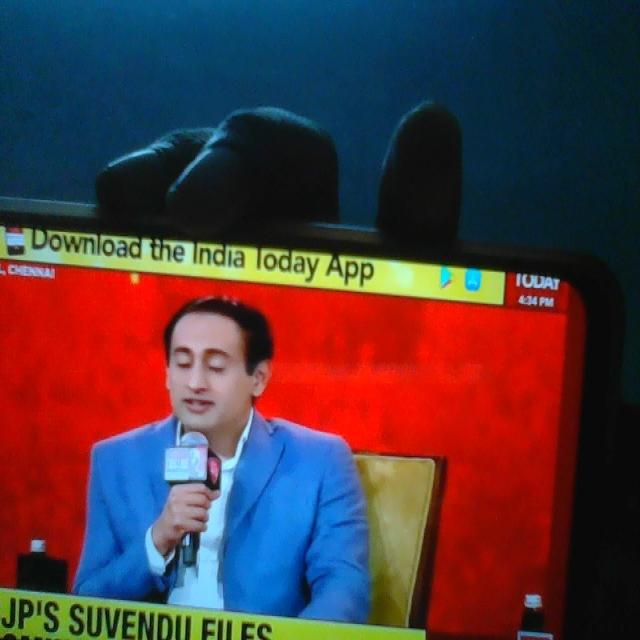fake: (160, 260, 260, 449)
